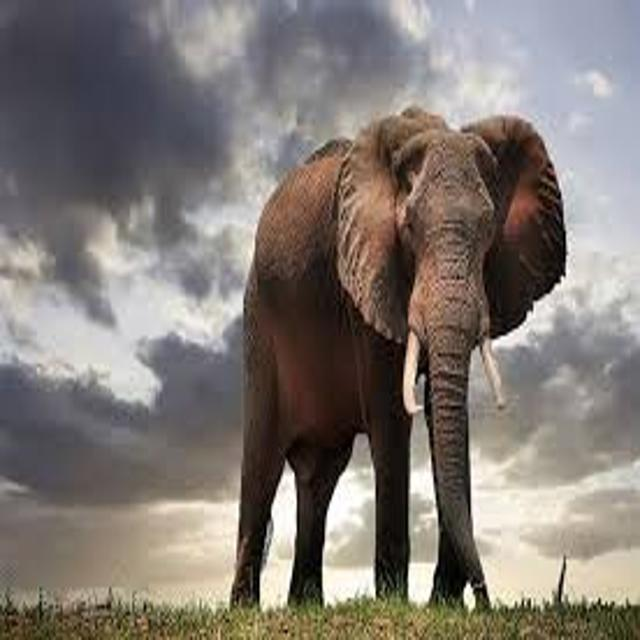elephant: (165, 86, 595, 621)
